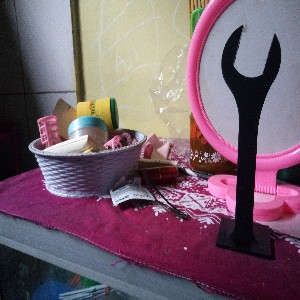spanner: (213, 23, 282, 262)
